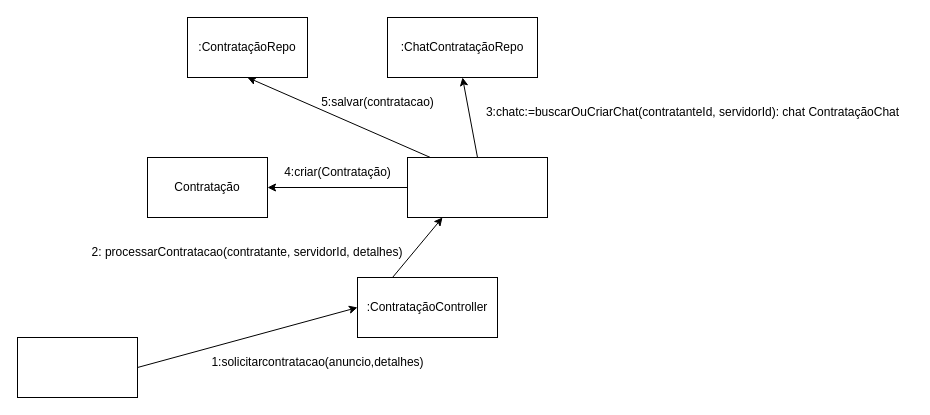
Image size: 930x415. Some labels were removed from this diagram. The centre of each missing label's shape, as x and y in pixels:
:ContrataçãoService: (477,187)
:Usuário: (77,367)
